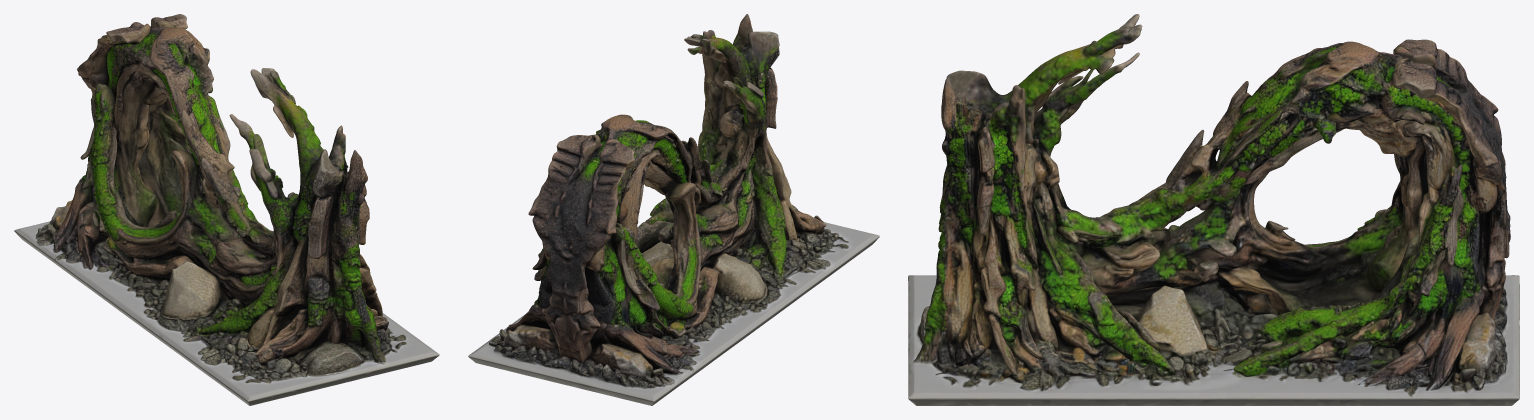
Rendered from Cauvongver2-v7.glb.
3 views of the same model, side by side, from view 1: azimuth 30°, elevation 25°; view 2: azimuth 150°, elevation 25°; view 3: azimuth 270°, elevation 25° (orthographic). The views are drawn at different scales.
Visible parts, largest first — view 1: tripo_node_124423ec-d819-4ac6-bb8c-61cc49c562ed; view 2: tripo_node_124423ec-d819-4ac6-bb8c-61cc49c562ed; view 3: tripo_node_124423ec-d819-4ac6-bb8c-61cc49c562ed.
Boxes of the visible parts, x1,y1,x2,y2 form: tripo_node_124423ec-d819-4ac6-bb8c-61cc49c562ed: [14, 14, 439, 405]; tripo_node_124423ec-d819-4ac6-bb8c-61cc49c562ed: [468, 14, 879, 405]; tripo_node_124423ec-d819-4ac6-bb8c-61cc49c562ed: [908, 14, 1519, 405].
Bounding box in the file's own units: 0.4752 × 0.5975 × 1.
Materials: 1 (1 with a texture image).
